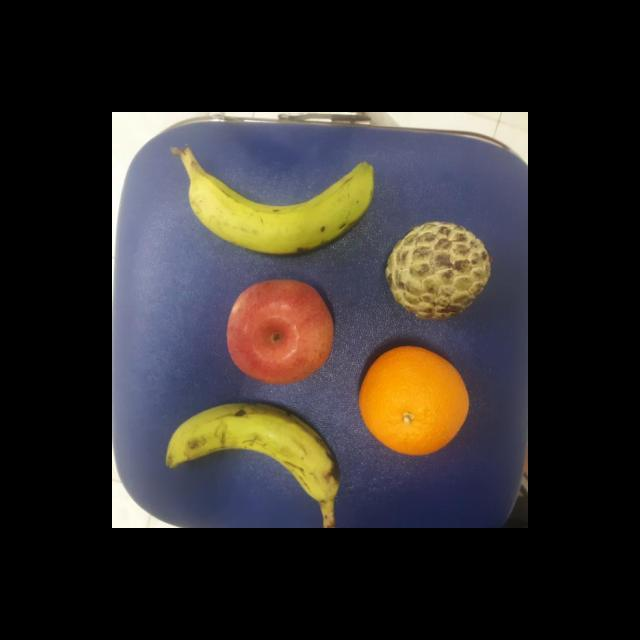Sakya fruit: (381, 218, 496, 322)
apple: (224, 275, 336, 384)
banana: (185, 157, 374, 258), (164, 399, 341, 505)
orange: (354, 346, 472, 456)
